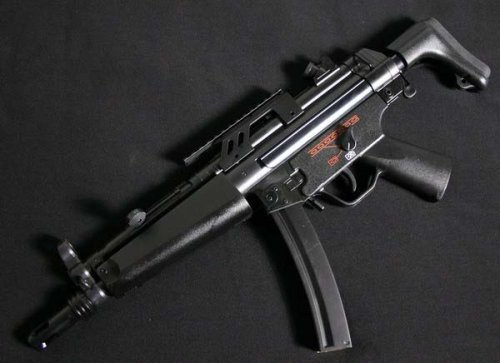rifle: (25, 24, 489, 354)
